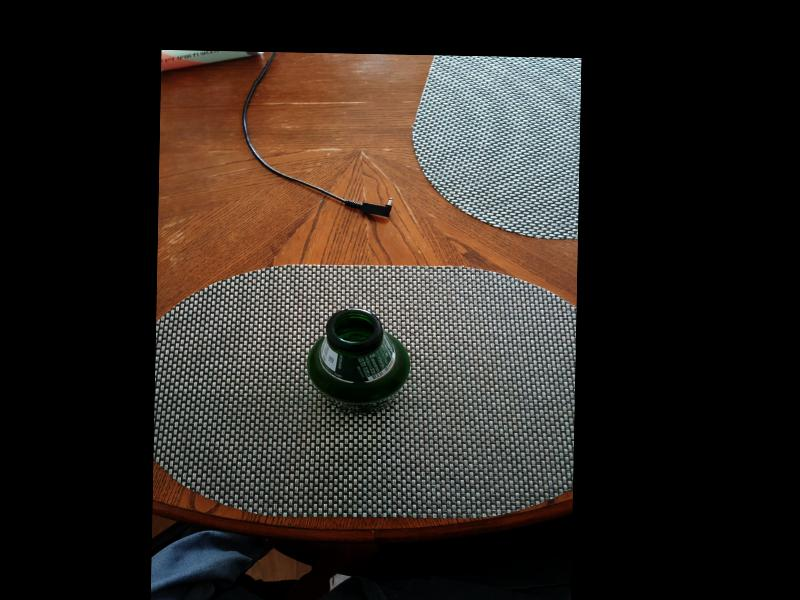Beer: (312, 309, 406, 414)
